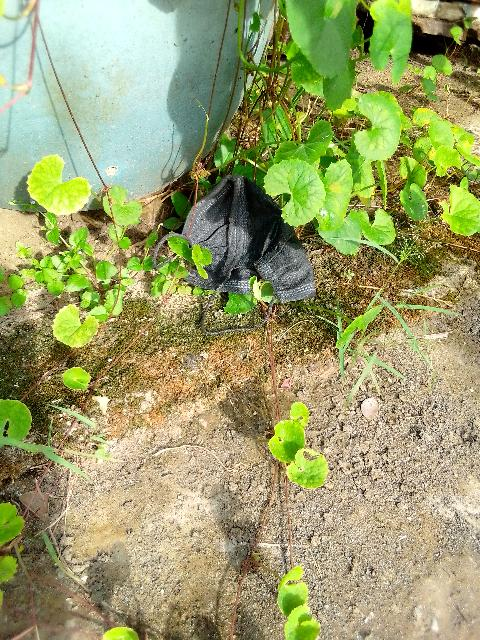mask: (174, 170, 363, 323)
